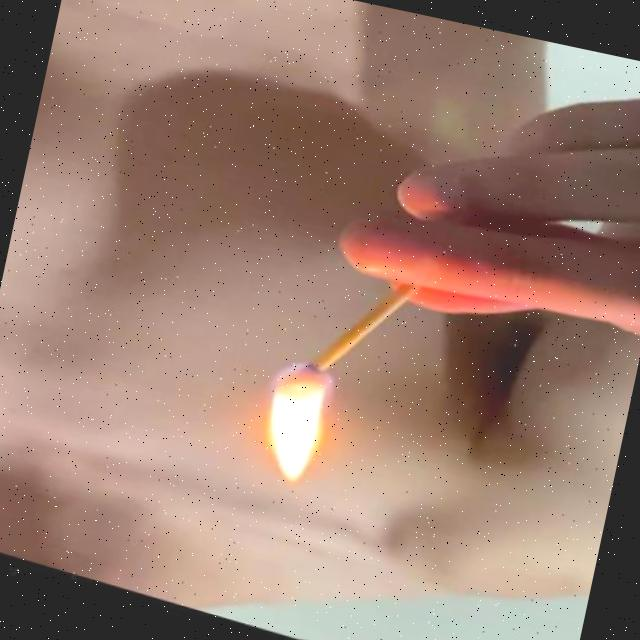fire: (239, 349, 357, 507)
